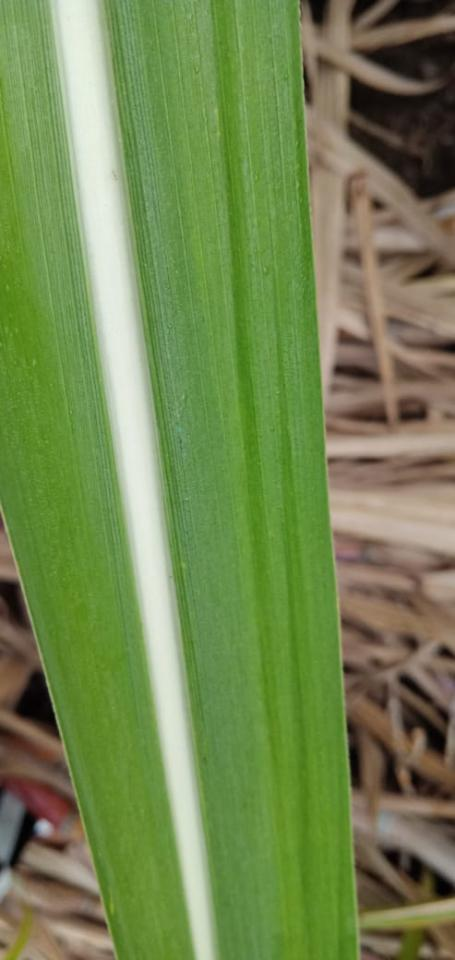Healthy: (0, 0, 359, 959)
